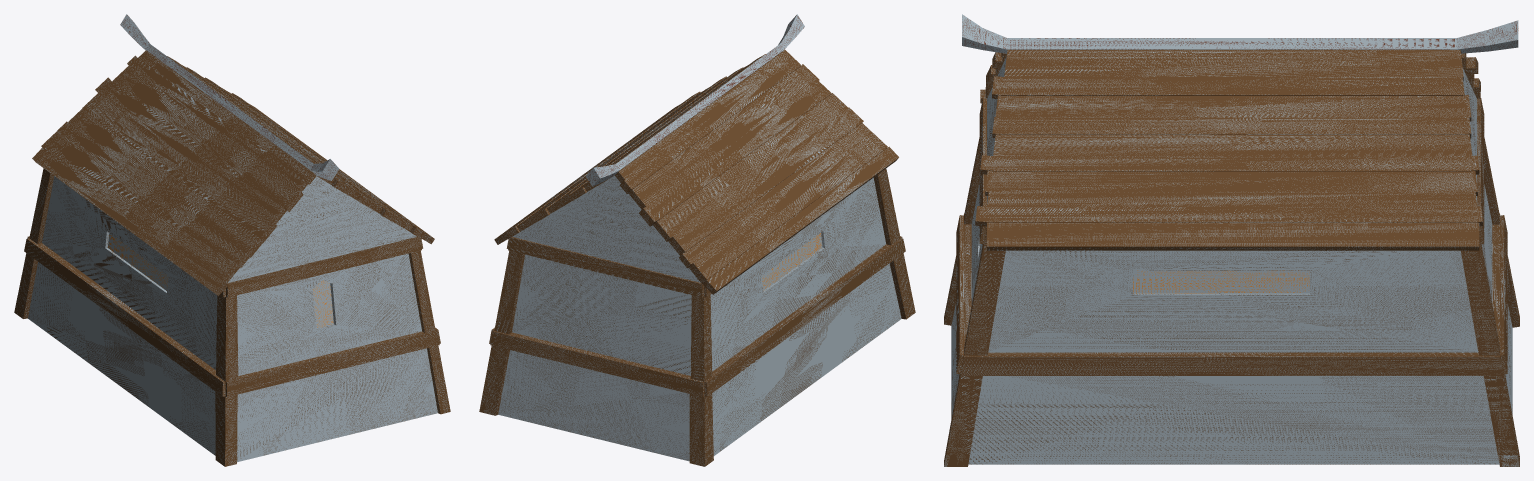
The model's file is Building_Viking_Tower_Top_01.fbx.
3 views of the same model, side by side, from view 1: azimuth 30°, elevation 25°; view 2: azimuth 150°, elevation 25°; view 3: azimuth 270°, elevation 25° (orthographic). The views are drawn at different scales.
Visible parts, largest first — view 1: Model; view 2: Model; view 3: Model.
Boxes of the visible parts, x1,y1,x2,y2 form: Model: [14, 14, 450, 466]; Model: [479, 14, 915, 466]; Model: [944, 14, 1519, 466].
Bounding box in the file's own units: 1342 × 1574 × 2172.
